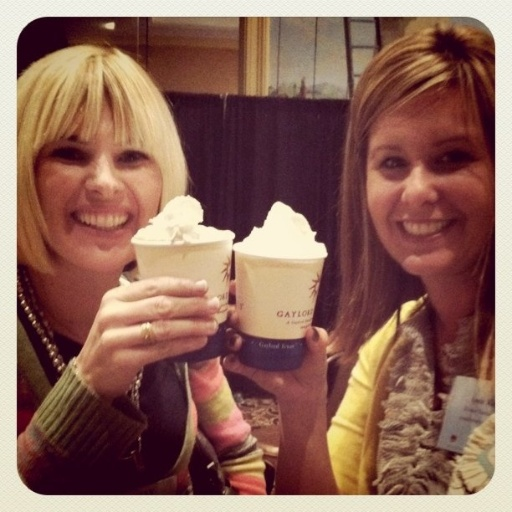hand: (80, 252, 244, 381), (225, 278, 331, 401)
